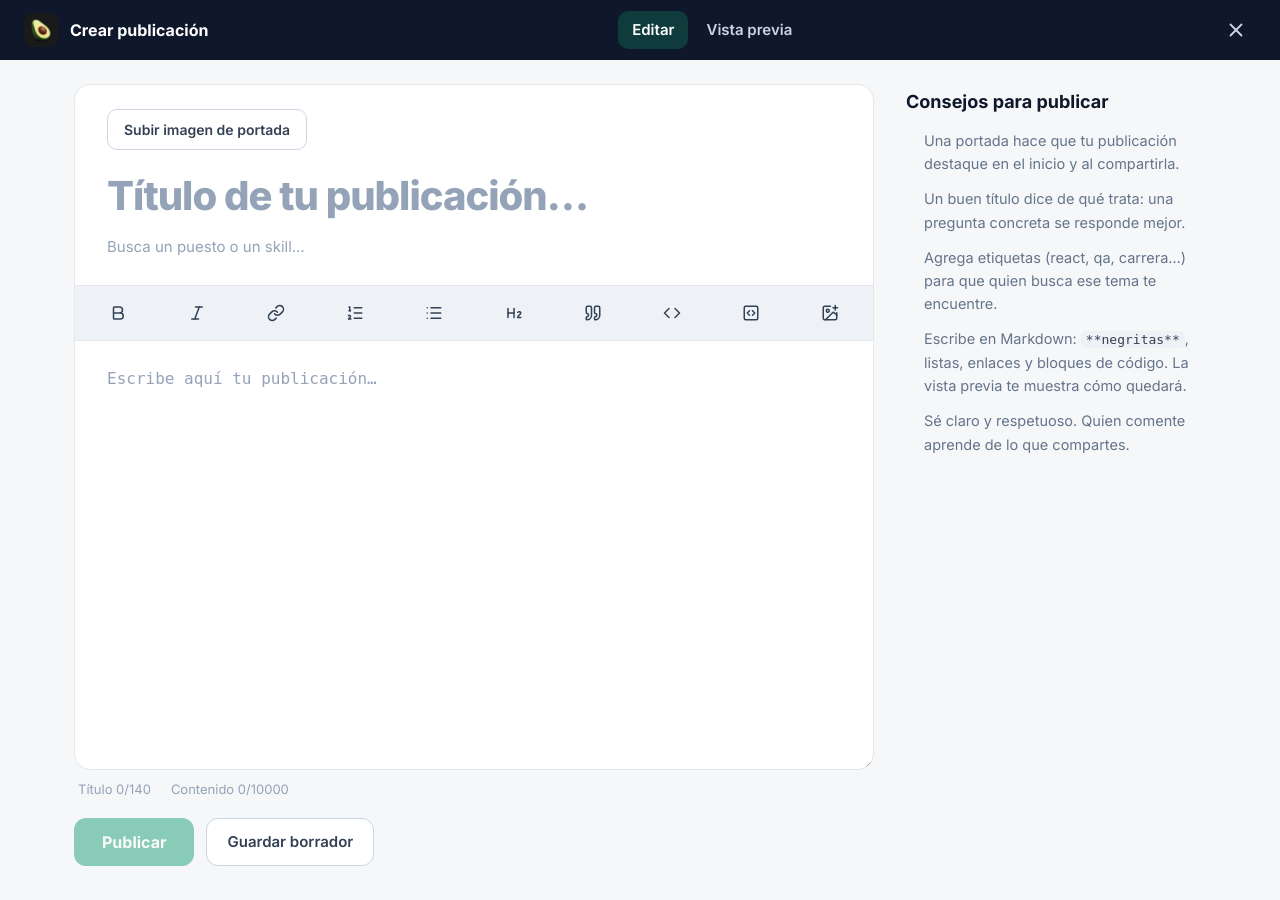
Scenario: PublishForm › shows the reason when the server refuses, and stays on the form
The width and height of the screenshot is (1280, 900).
Step 1. Type "¿Cómo estructuran sus pruebas?" into the text box labelled "Título" → (474, 191), box [75,158,873,224]
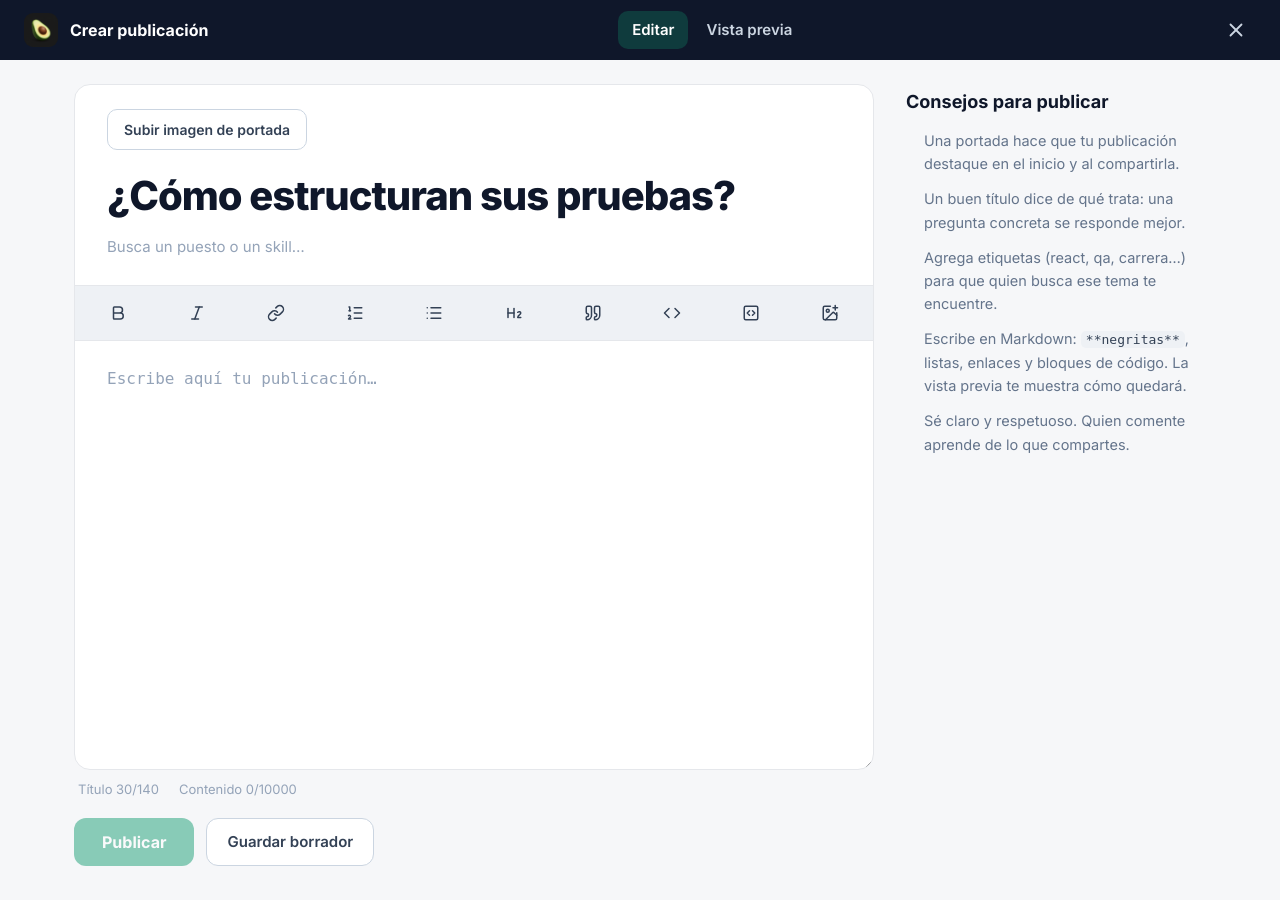
Step 2. Type "Estoy armando la estrategia de pruebas de un equipo nuevo y quiero saber cómo lo hacen ustedes." into the text box named "Contenido" → (474, 555), box [75,340,873,769]
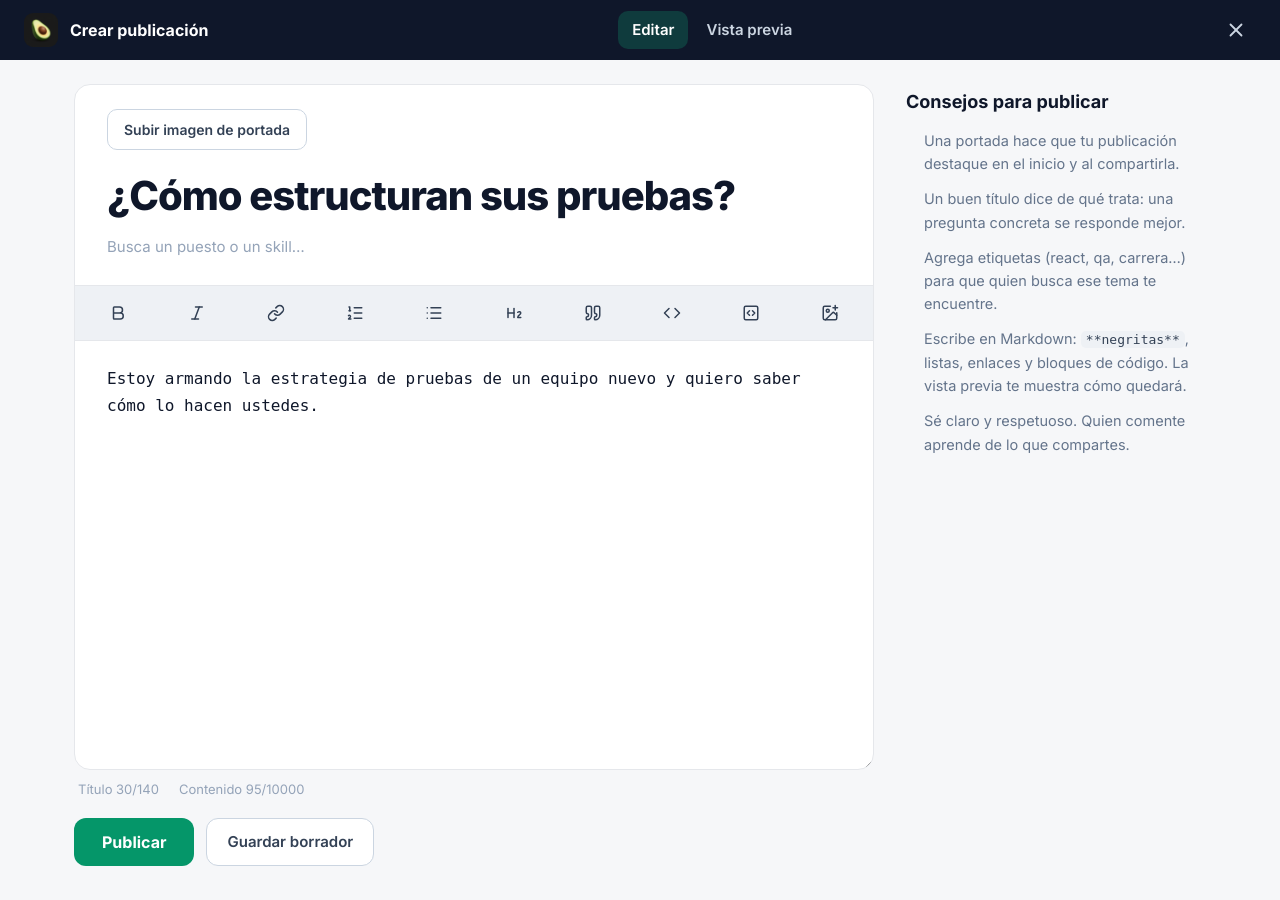
Step 3. Click the button "Publicar" → (134, 842), box [74,818,194,866]
(page scrolled)
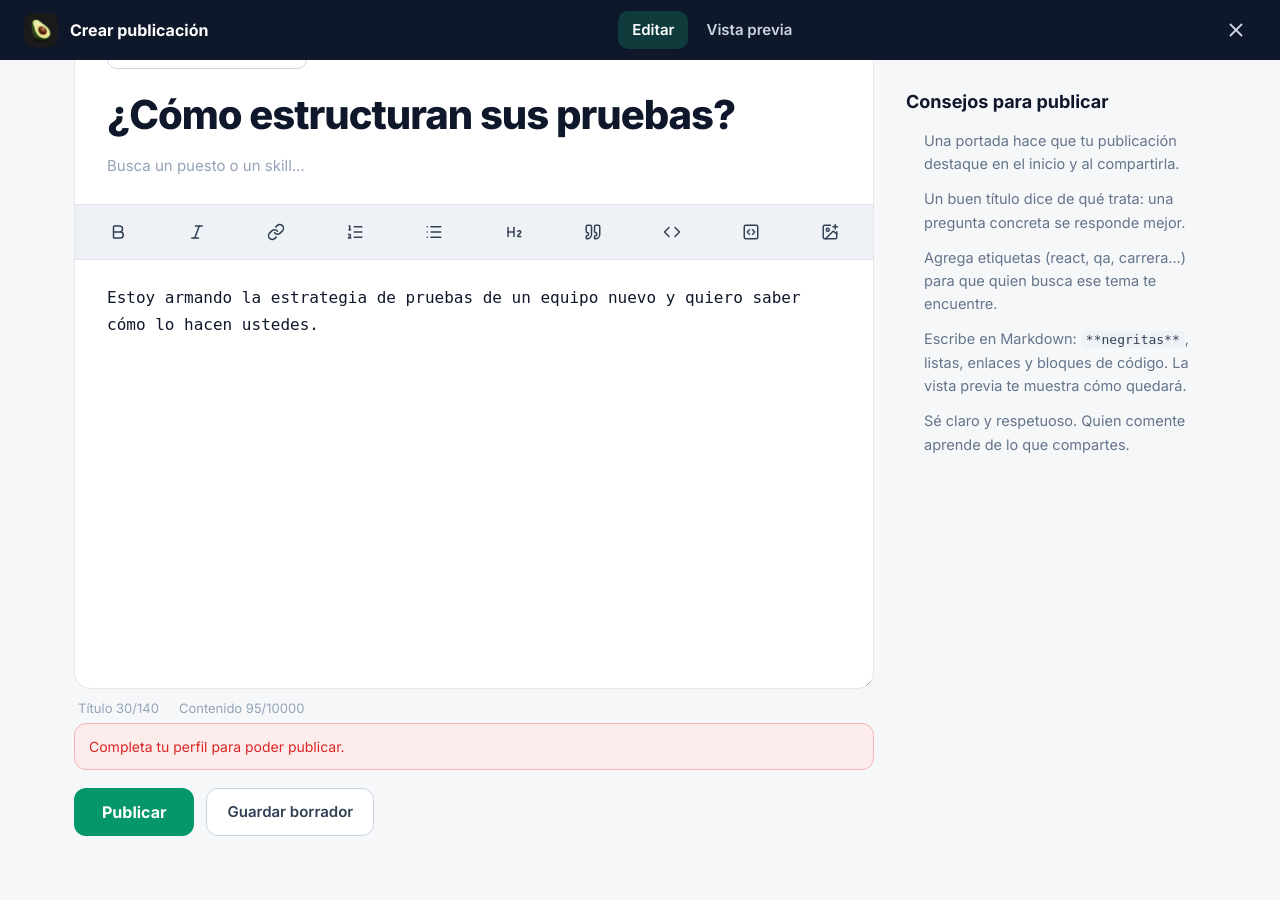
Expected: the button "Publicar" is enabled, [74,788,194,836]
Expected: the message reads "Completa tu perfil para poder publicar.", [89,738,345,755]
